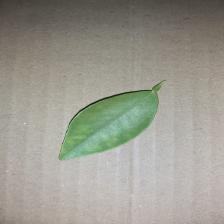greening: (53, 74, 172, 166)
